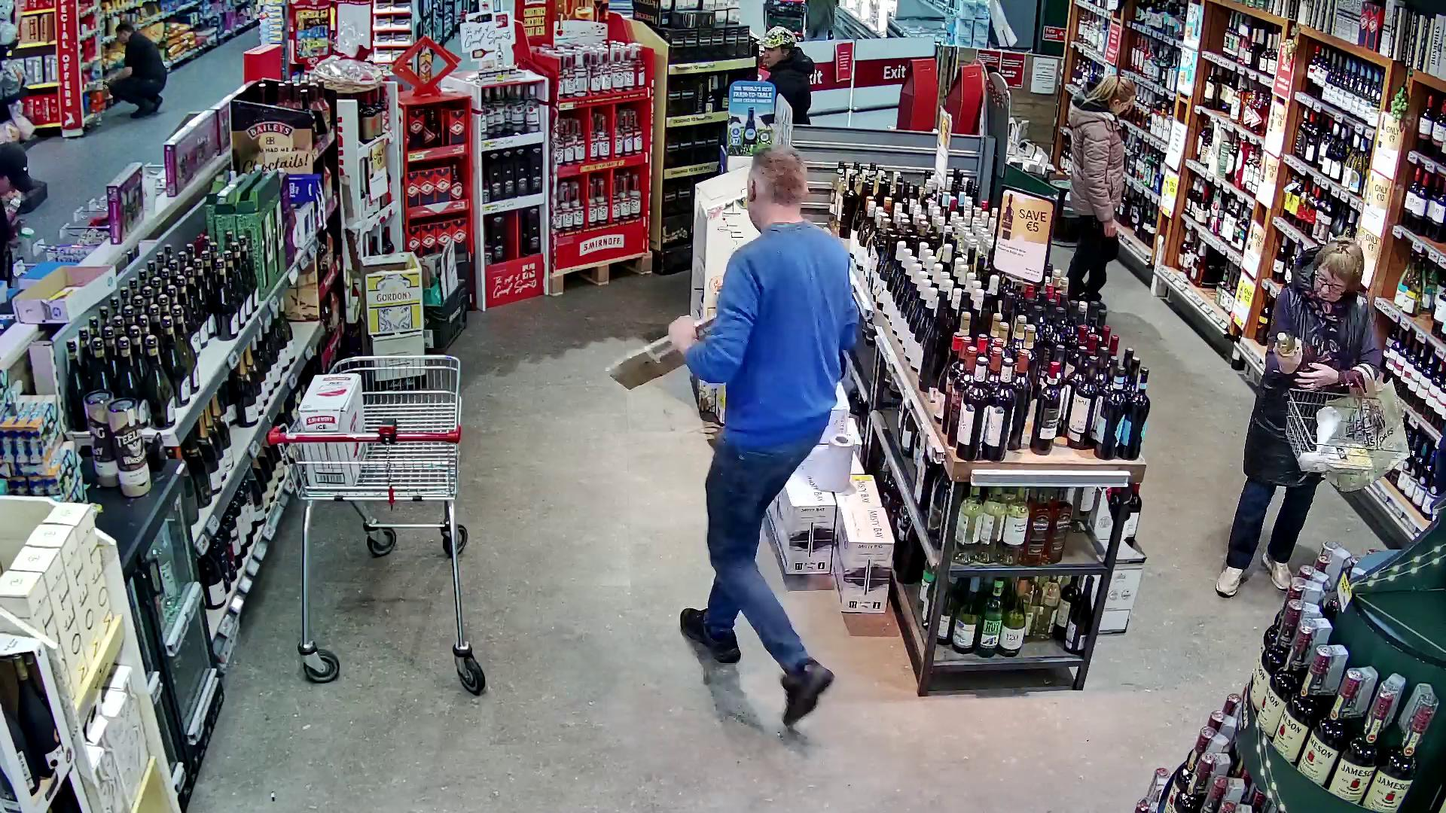carrying-item: (1273, 331, 1301, 368)
empty-basket: (1286, 390, 1400, 475)
filled-shopping-bags: (1325, 378, 1412, 490)
person: (1216, 238, 1381, 598)
person-with-basket-trolly-and-shopping-bag: (1216, 238, 1411, 598)
